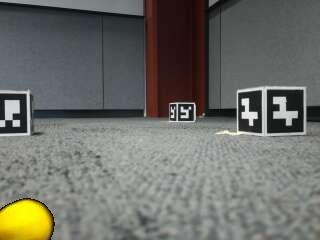lemon: (1, 201, 54, 240)
